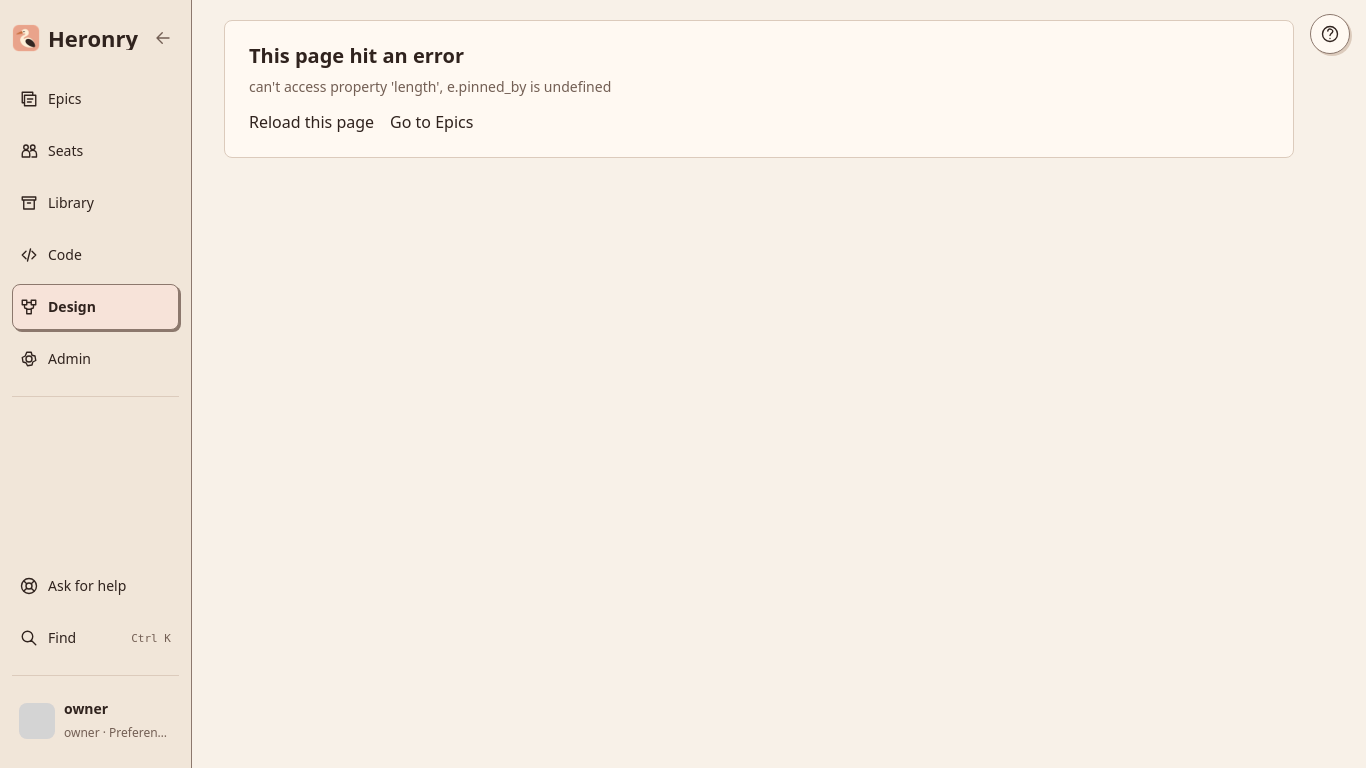
Test case: the SPA never crashes ahead of the board › a page render error shows the inline error card and the rail still works
Expected: the text with test id "page-error-message" shows "e.pinned_by is undefined", [249, 77, 611, 96]
Expected: the link with test id "page-error-reload" reads "Reload this page", [249, 110, 374, 134]
the shell is still there: the rail answers, and moving to another page clears the error
Click the link "Epics" at (51, 98), box [20, 89, 81, 108]
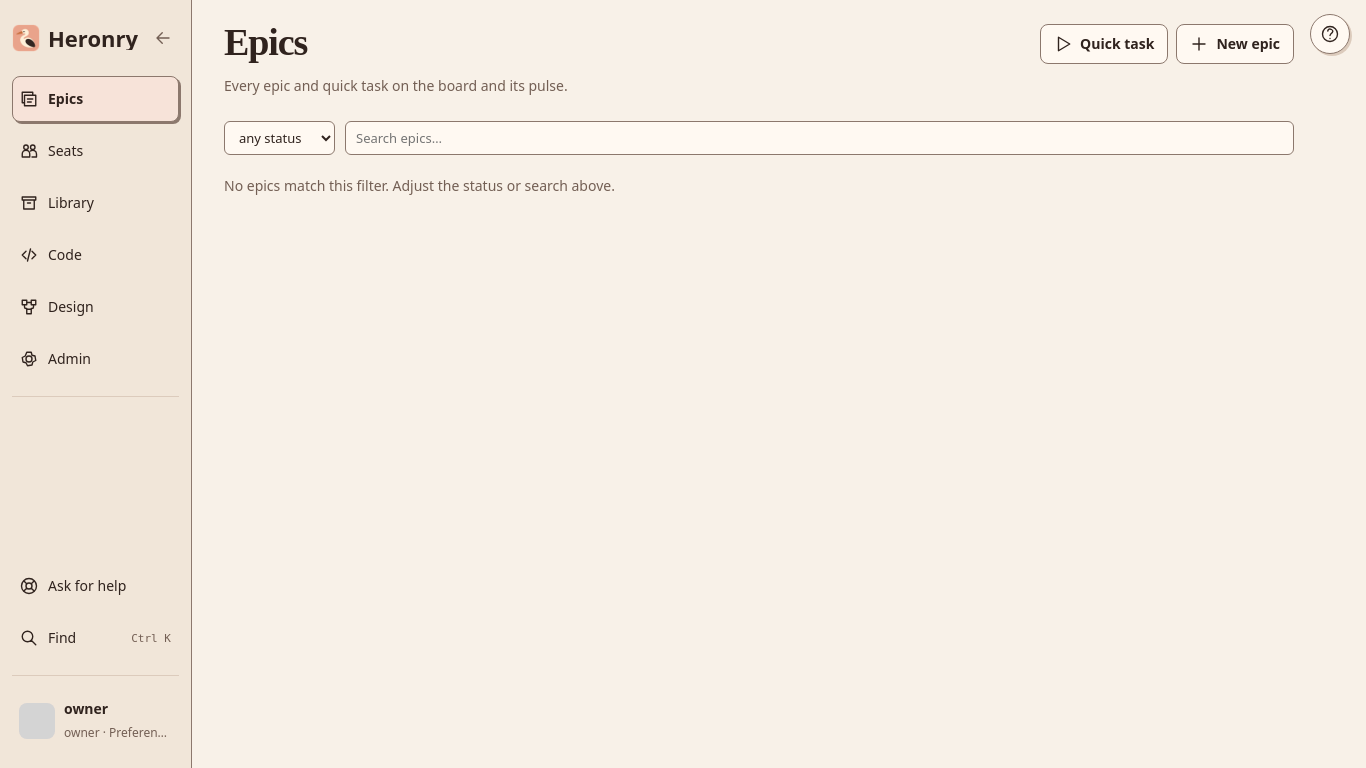
Now the message with test id "page-error" is gone
